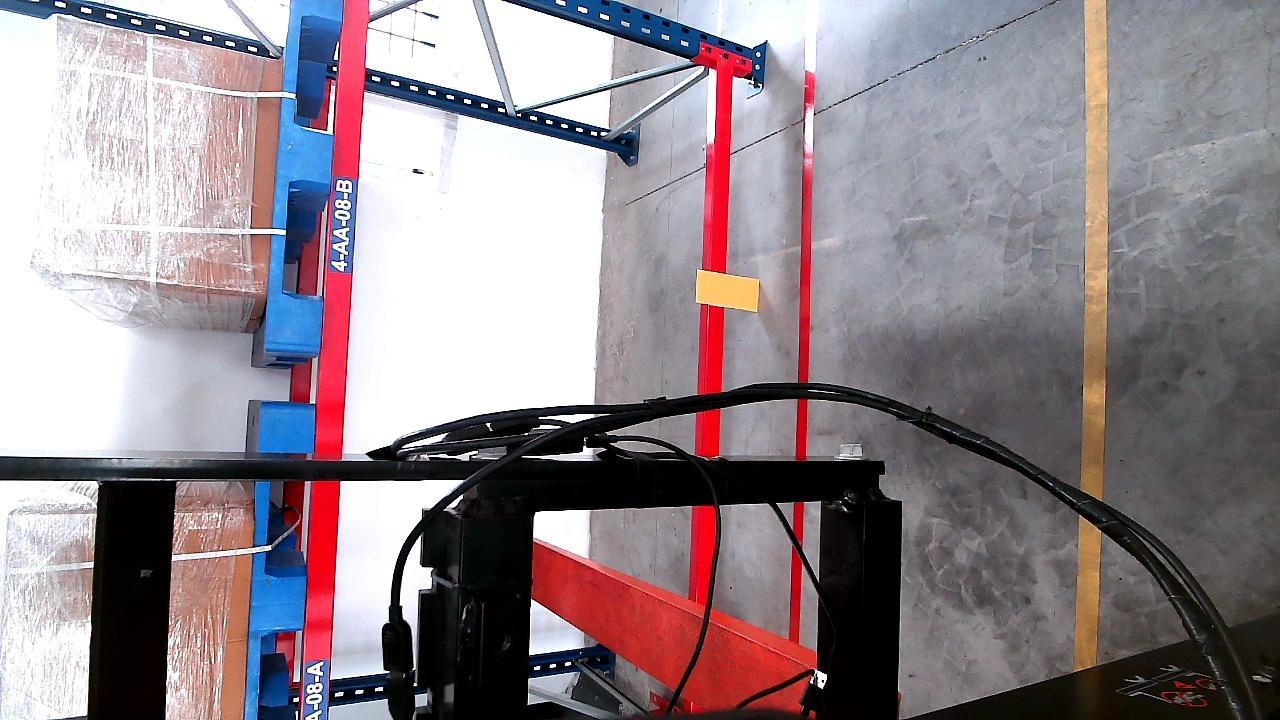red_line: (791, 0, 819, 640)
yellow_line: (1075, 0, 1107, 670)
